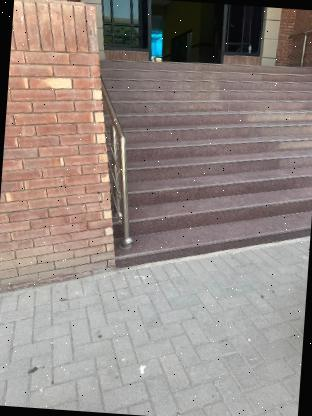stair: (85, 32, 312, 284)
